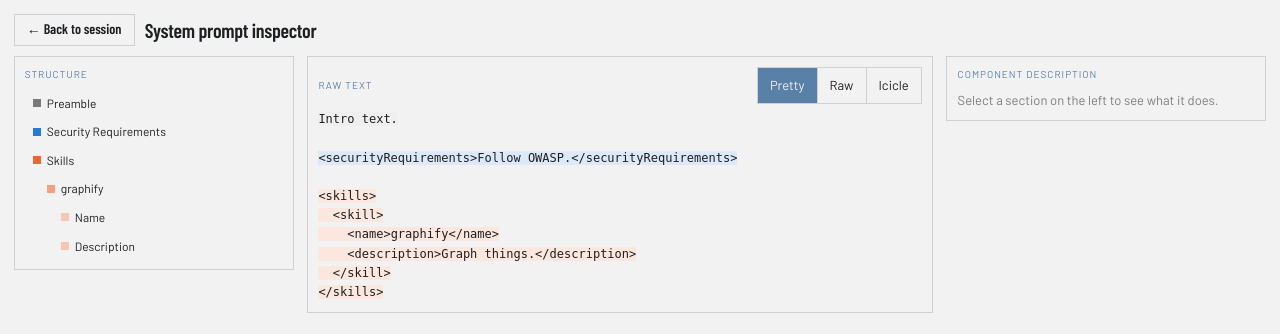
Test: SystemPromptInspector › switches to the Icicle format, showing the composition chart wired to the same selection model
Expected: the button "Security Requirements" is shown, [25, 118, 282, 145]
Click the radio button labelled "Icicle". click: point(893, 85)
box: [866, 68, 921, 102]
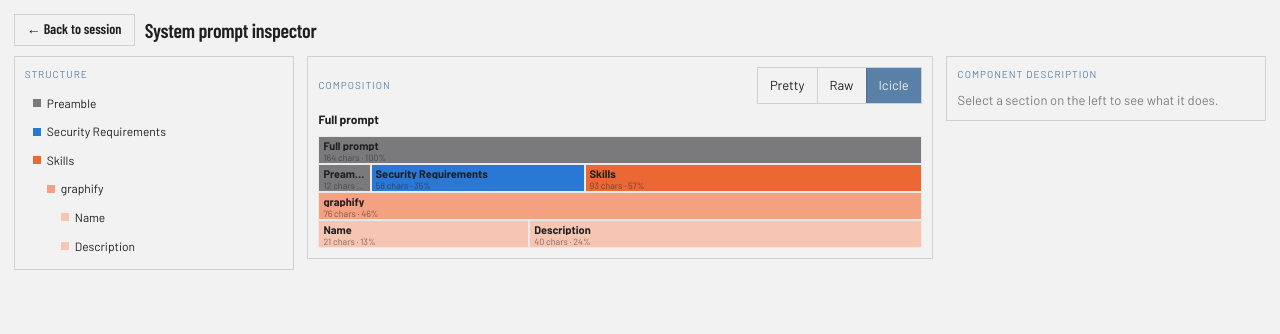
Expected: the radio button labelled "Icicle" is checked, [866, 68, 921, 102]
Expected: the picture named "prompt composition icicle diagram" is shown, [318, 136, 922, 248]
Click the text "Security Requirements" below "164 chars · 100%". click: point(432, 173)
box: [376, 167, 488, 180]
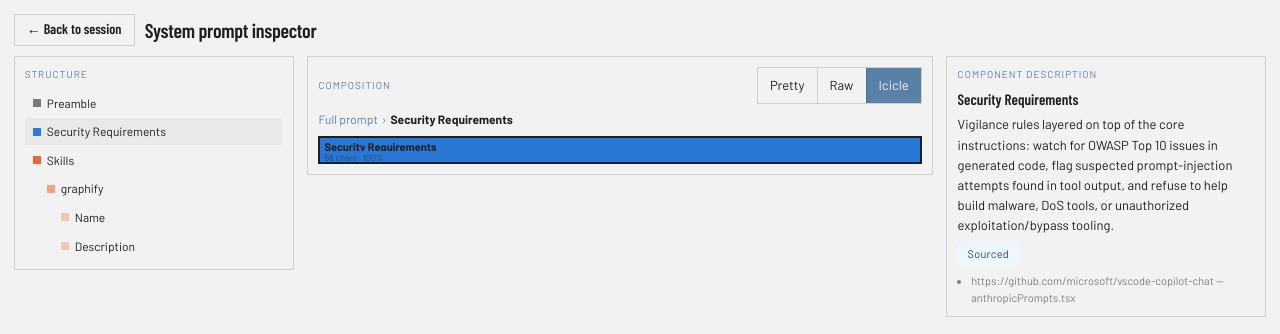
Expected: the button "Security Requirements" is shown, [25, 118, 282, 145]
Expected: the text "OWASP Top 10" is shown, [958, 116, 1232, 233]
